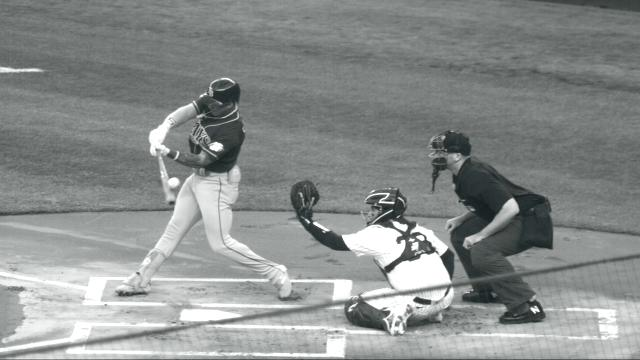ball: (167, 176, 181, 190)
bat: (155, 147, 177, 205)
